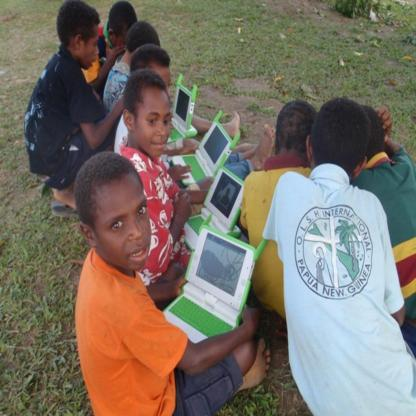board: (174, 222, 254, 337), (184, 153, 243, 253), (171, 110, 241, 186), (164, 73, 198, 146)
